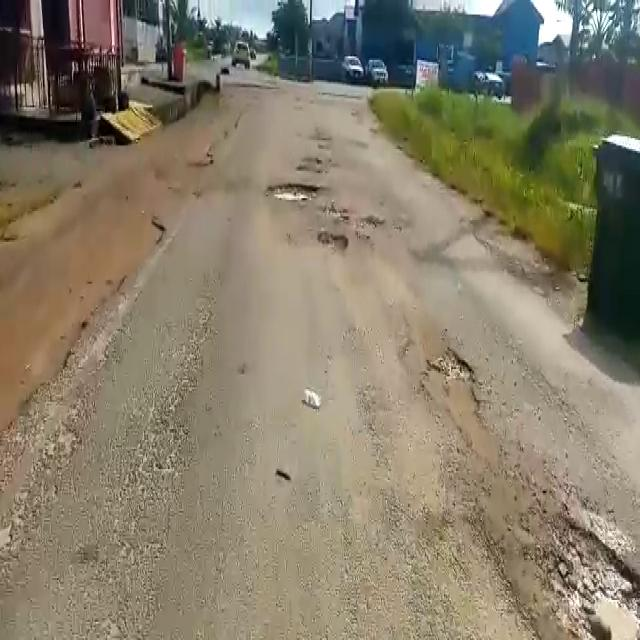Pothole: (528, 490, 640, 640), (418, 350, 505, 474), (266, 180, 324, 198), (314, 227, 354, 250)
